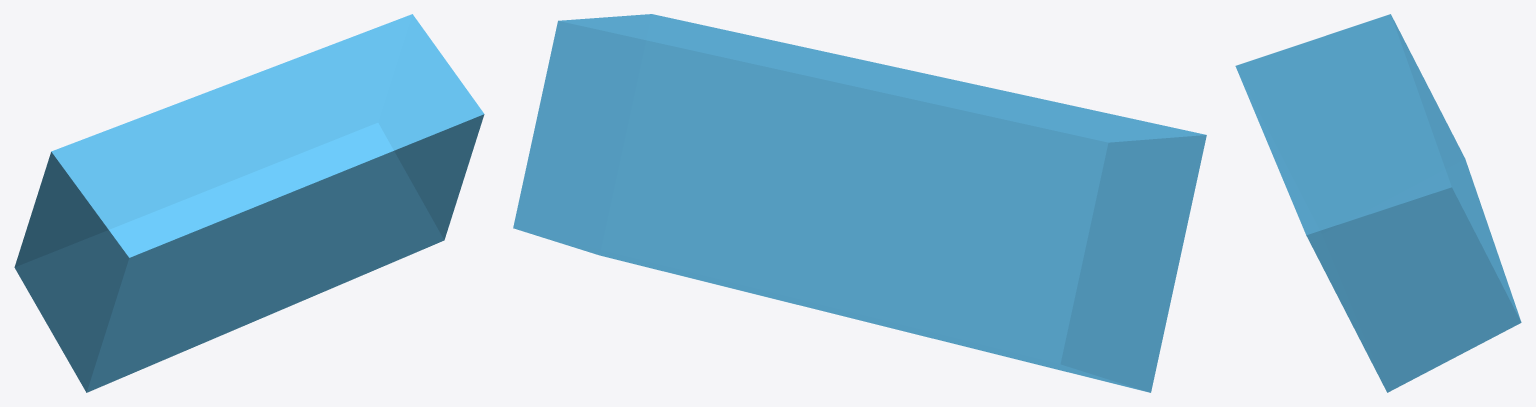
Rendered from Event_420094457_HErechit_18.fbx.
3 views of the same model, side by side, from view 1: azimuth 30°, elevation 25°; view 2: azimuth 150°, elevation 25°; view 3: azimuth 270°, elevation 25° (orthographic). The views are drawn at different scales.
Visible parts, largest first — view 1: Model; view 2: Model; view 3: Model.
Boxes of the visible parts, left/top/right/bottom form: Model: left=14, top=14, right=484, bottom=392; Model: left=513, top=14, right=1206, bottom=392; Model: left=1235, top=14, right=1521, bottom=392.
Size of the model in its own units: 0.699 by 0.4041 by 0.437.
